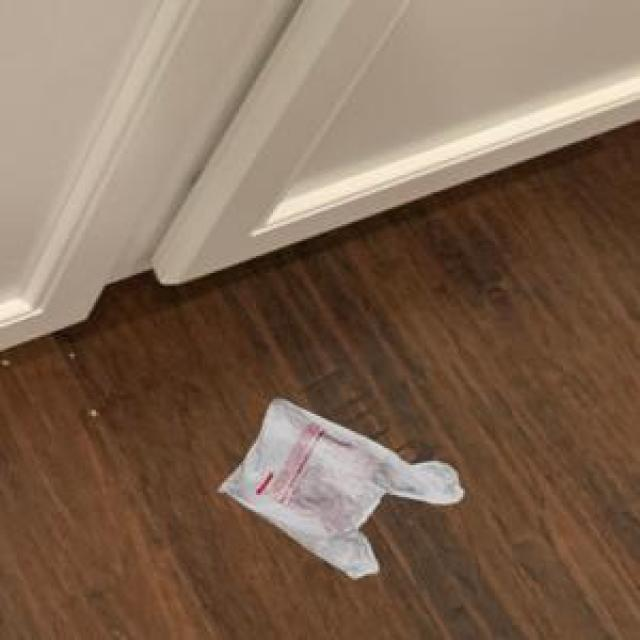waste: (219, 399, 464, 578)
